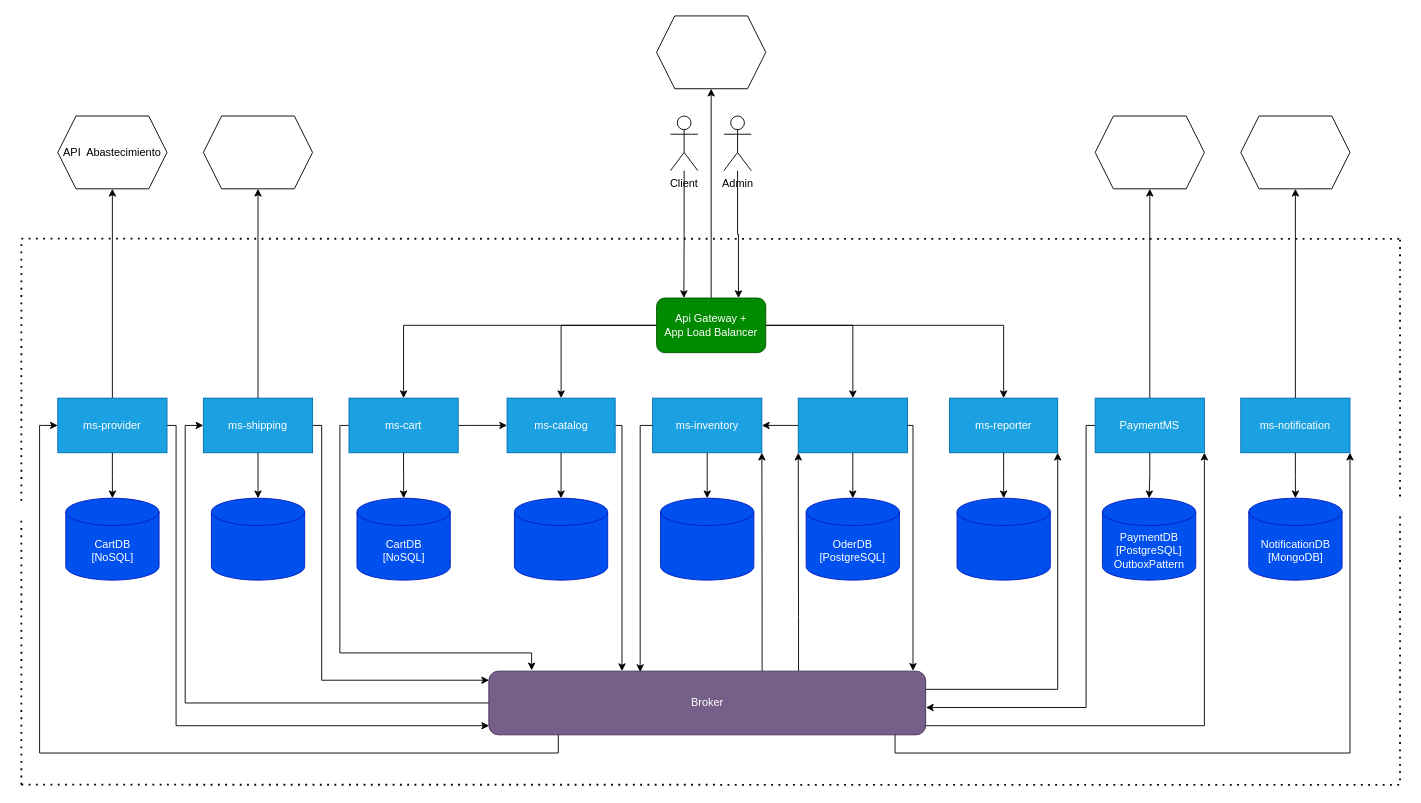
Image size: 1421x803. Some labels were removed from this diagram. Each missing label, with the centre of its shape:
"AWS SES" goes at [1295,152].
"CatalogDB [DynamoDB]" goes at [561,538].
"Entra Id | Cognito" goes at [711,52].
"InventoryDB [PostgreSQL]" goes at [707,538].
"Mercado Pago" goes at [1149,152].
"ms-order" goes at [852,425].
"ReporterDB [NoSQL]" goes at [1003,538].
"Shipping API" goes at [257,152].
"ShippingDB [PostgreSQL] Outbox Pattern" goes at [257,538].
